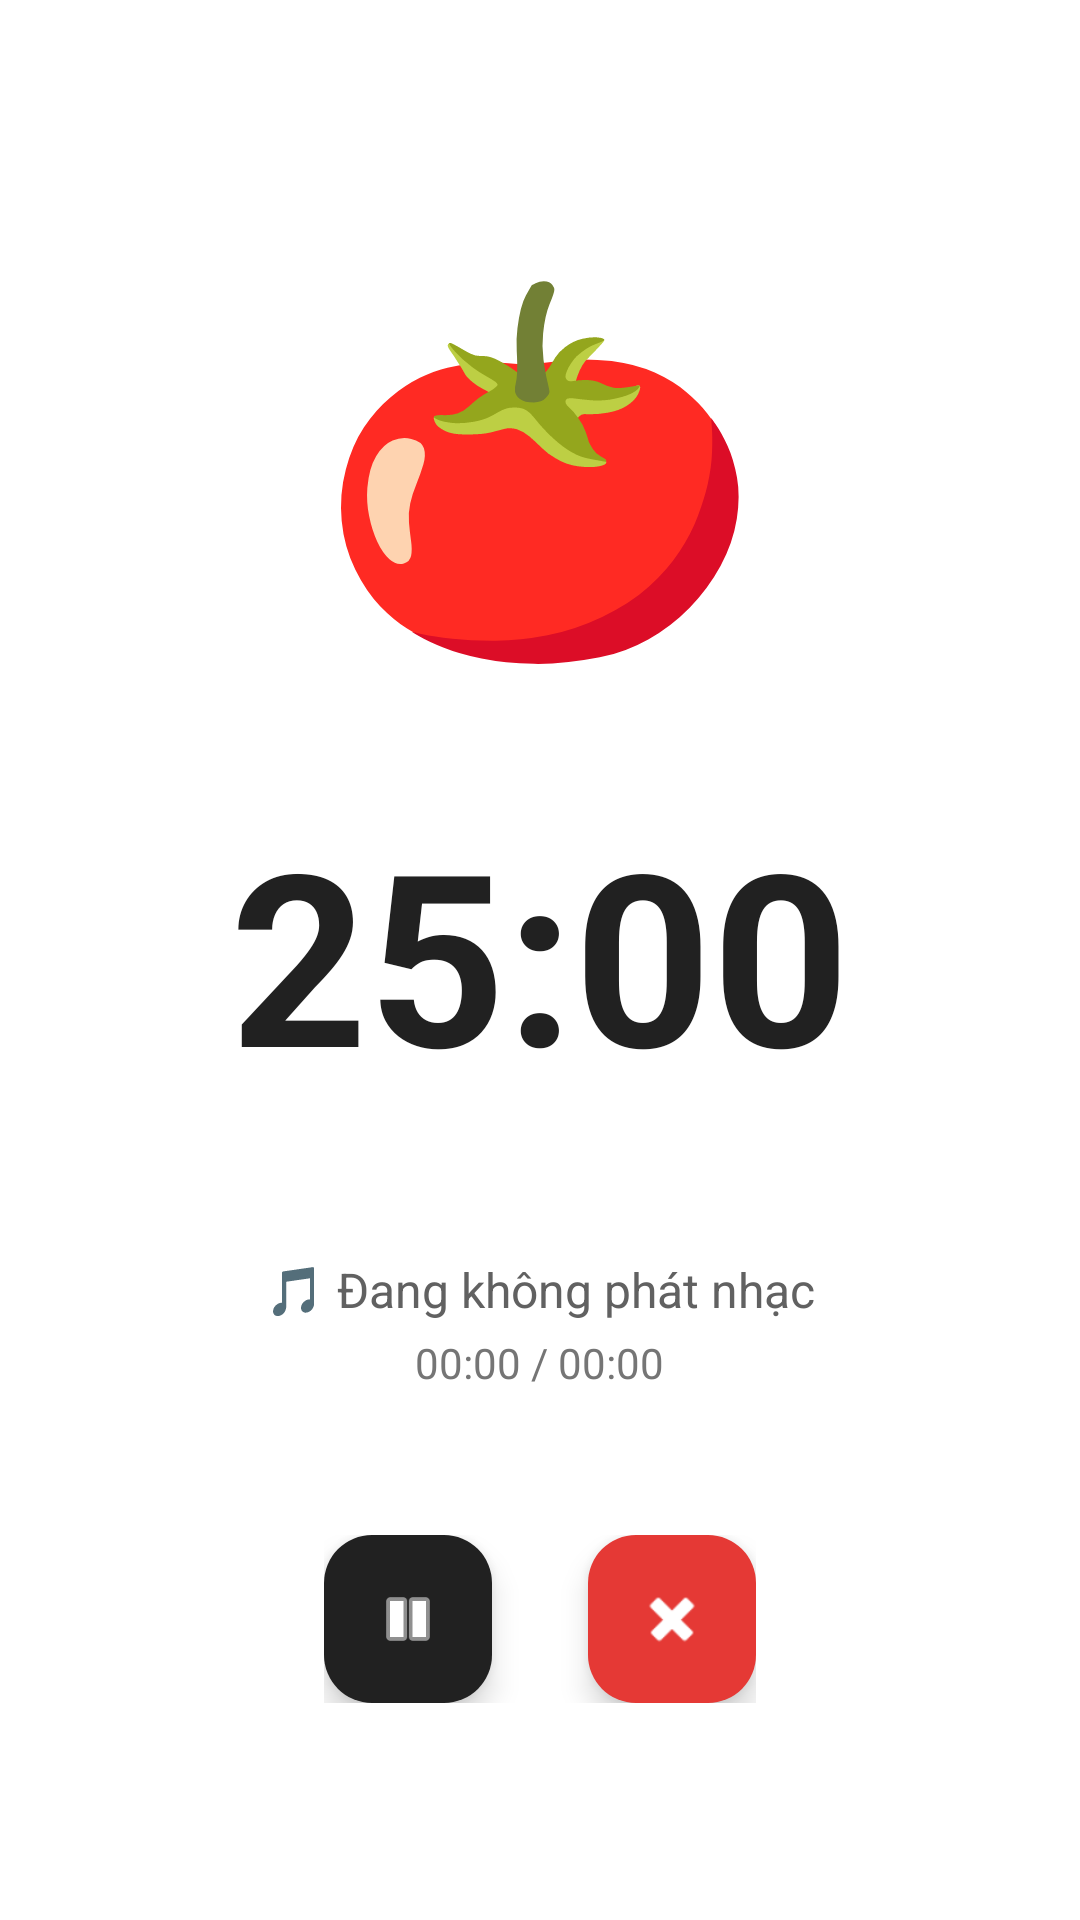

Where icons sit on this 1080×1920 app screen, as (x1, y1, x2, y2):
delete: (588, 1535, 756, 1703)
pause: (324, 1535, 492, 1703)
